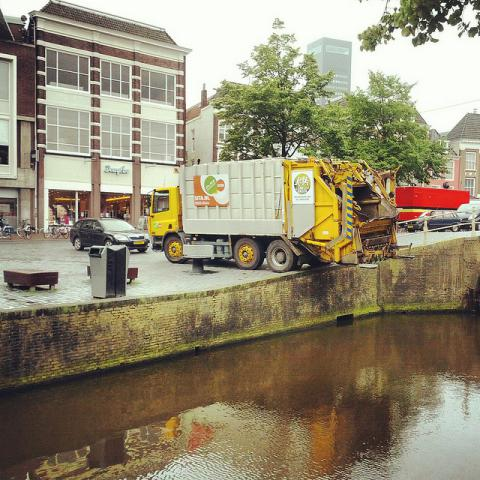car: (70, 217, 150, 252), (403, 210, 461, 234), (3, 225, 16, 233)
truck: (147, 156, 415, 272), (395, 183, 470, 221)
